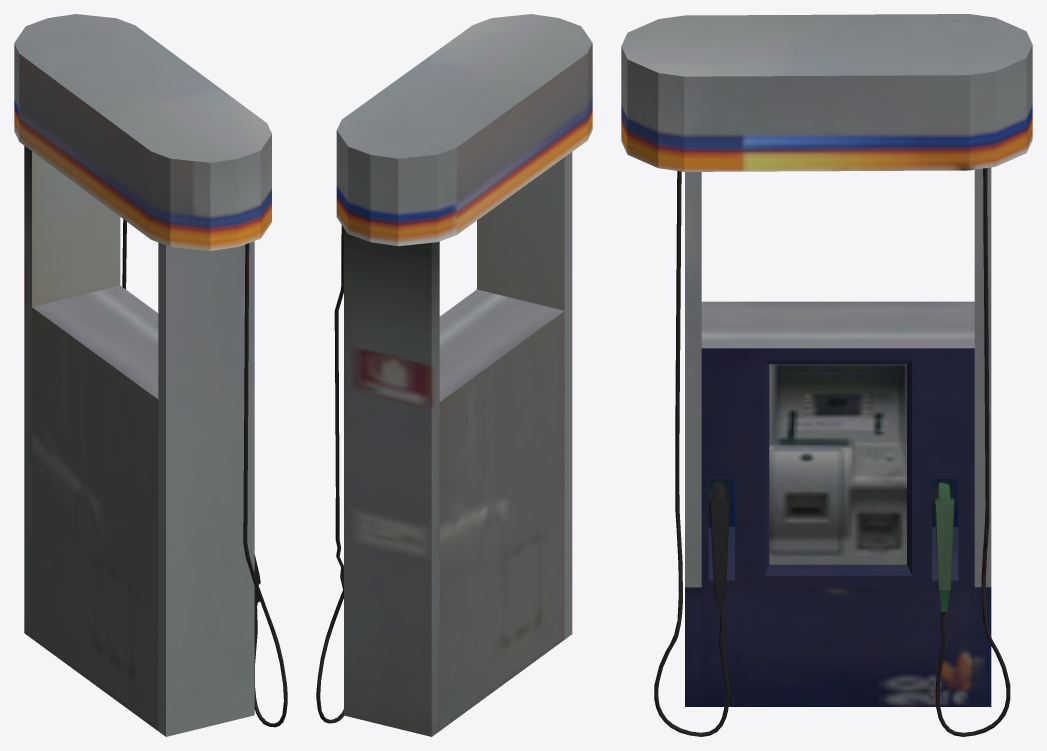
File: Gas_Station_pump.fbx
3 renders of one model, left to right at view 1: azimuth 30°, elevation 25°; view 2: azimuth 150°, elevation 25°; view 3: azimuth 270°, elevation 25°, orthographic. The views are drawn at different scales.
Parts seen in each view (by area): view 1: GasPump; view 2: GasPump; view 3: GasPump.
Boxes of the visible parts, left/top/right/bottom form: GasPump: left=14, top=14, right=287, bottom=736; GasPump: left=316, top=14, right=592, bottom=736; GasPump: left=621, top=14, right=1032, bottom=736.
Size of the model in its own units: 43.66 by 204 by 115.
1 material, 1 textured.
